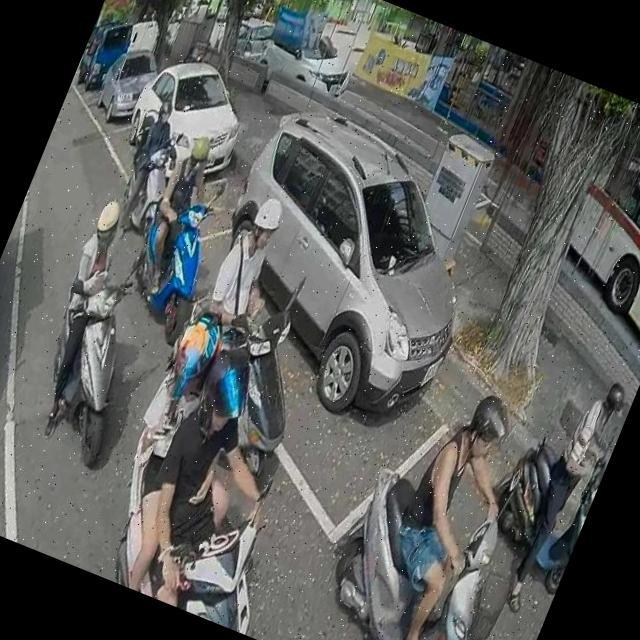person: (112, 333, 331, 629), (91, 302, 286, 608), (350, 373, 545, 640), (14, 188, 153, 444), (496, 370, 636, 622), (190, 186, 304, 364), (128, 120, 238, 304), (101, 94, 186, 239)
